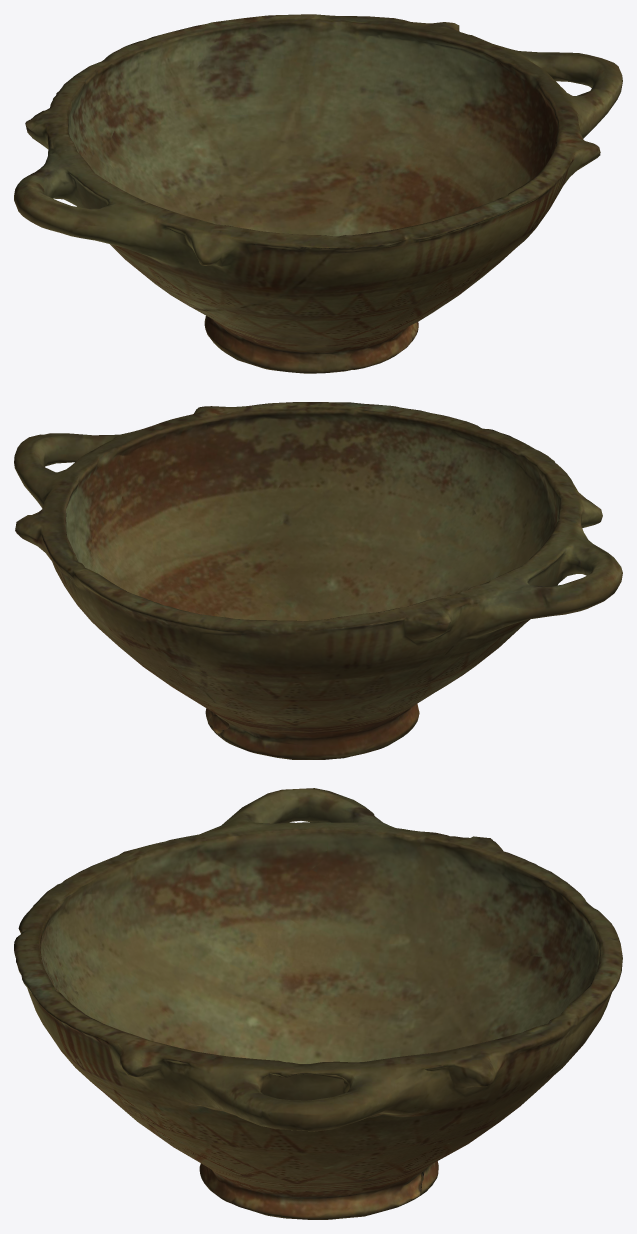
File: kylix.glb
The picture shows the model from 3 angles, top to bottom: view 1: azimuth 30°, elevation 25°; view 2: azimuth 150°, elevation 25°; view 3: azimuth 270°, elevation 25°; orthographic projection. The views are drawn at different scales.
Bounding box in the file's own units: 0.2198 × 0.0743 × 0.1767.
Materials: 1 (1 with a texture image).
